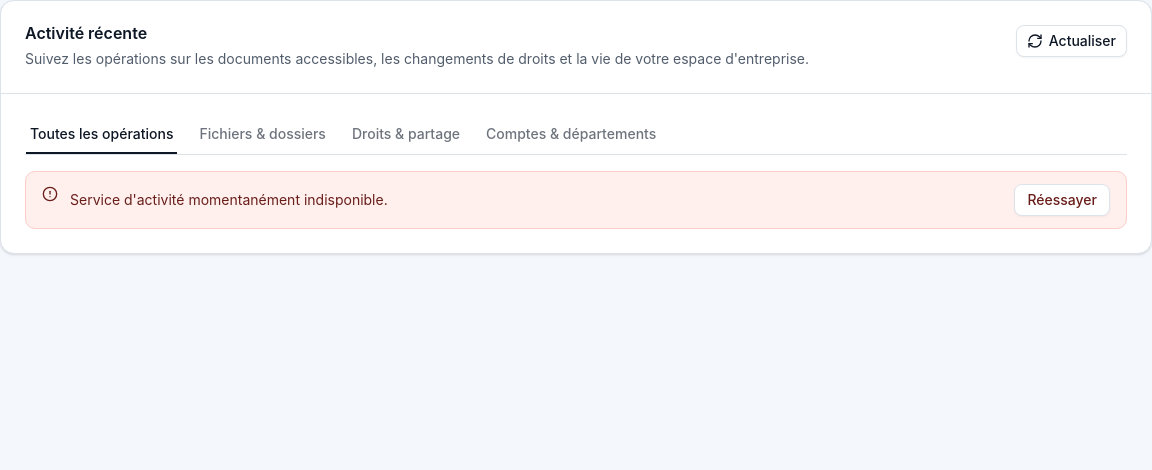
it: ActivityFeedPanel & NodeActivitySection (T37) › gère l'état vide et la reprise sur erreur avec Réessayer
This screenshot has width=1152, height=470.
expect the message shows "Service d'activité momentanément indisponible.": met, box [70, 191, 388, 208]
Click the button "Réessayer".
click(1062, 200)  # box [1014, 184, 1110, 216]
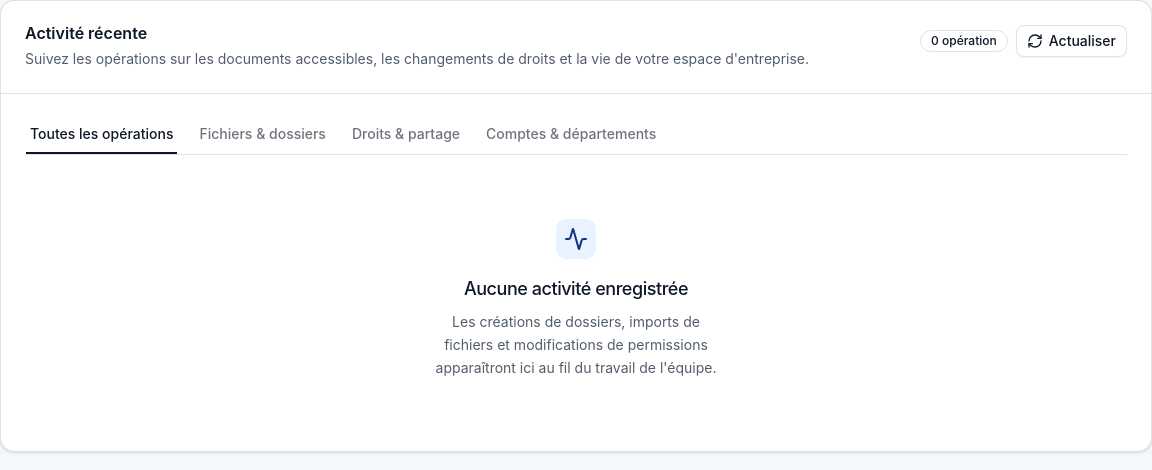
expect the text "Aucune activité enregistrée" is shown: met, box [464, 275, 688, 303]
